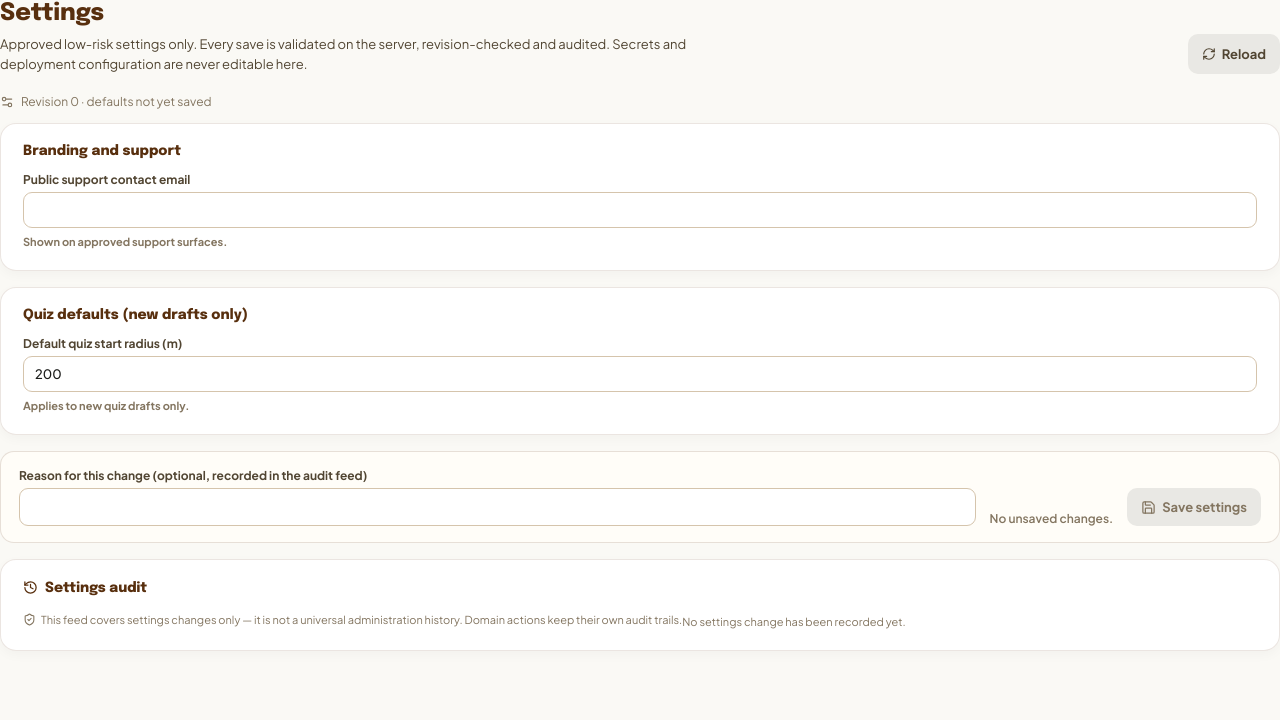
Test case: SettingsPage › reports a failed write without any success notice
Replace the text in the number field labelled "Default quiz start radius (m)" with "50" at point(640, 374), box [23,356,1257,392]
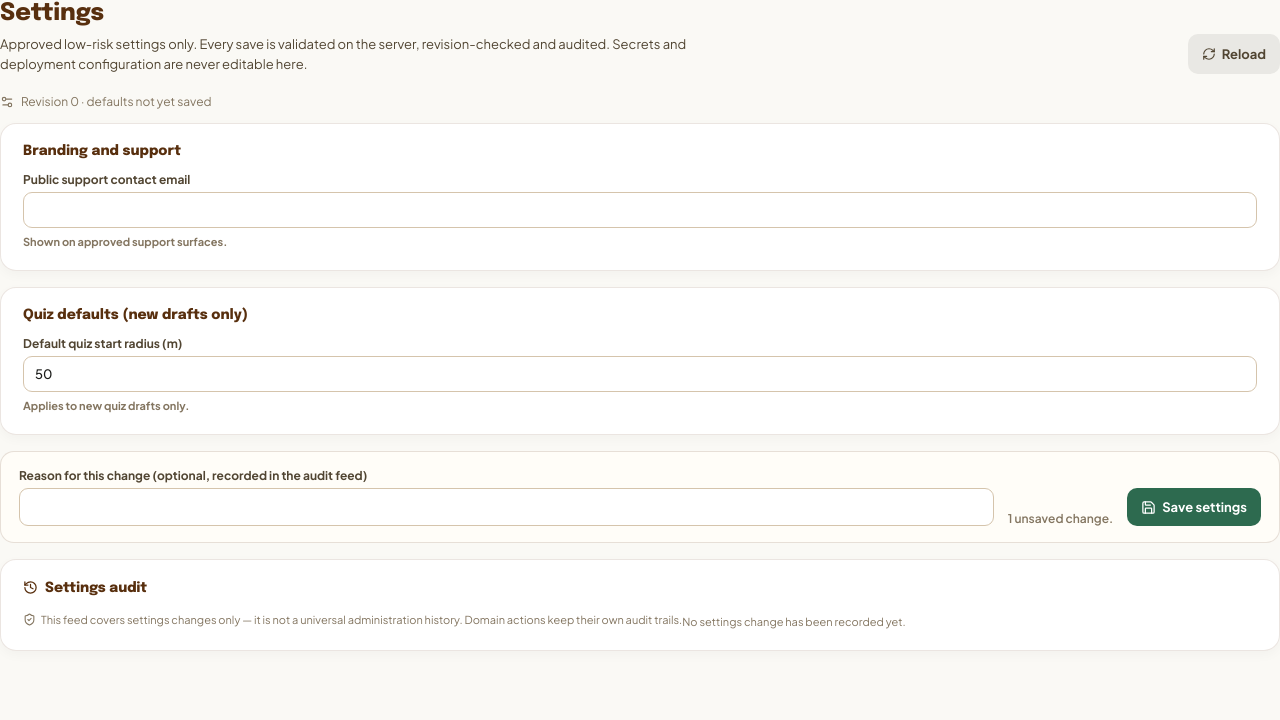
Click the button "Save settings" at point(1194, 507), box [1127,488,1261,526]
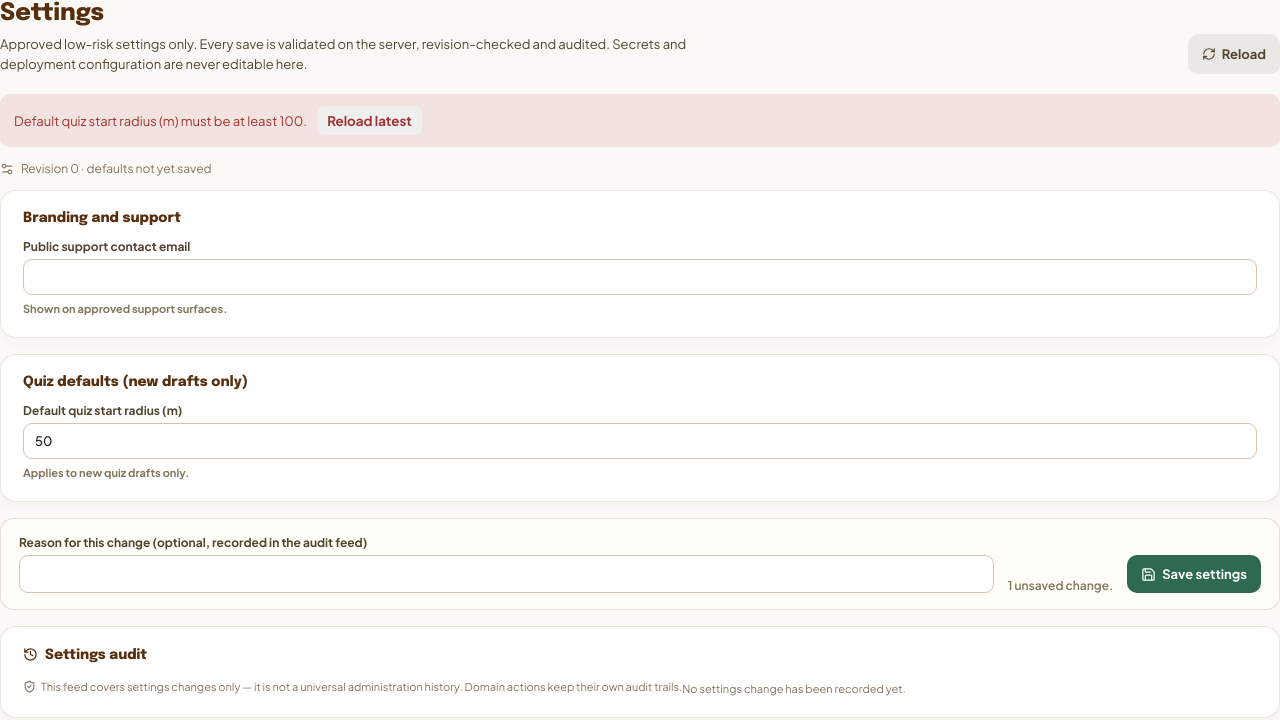
expect the text "1 unsaved change." is shown: met, box [1008,578,1113,593]
expect the message "Default quiz start radius (m) must be at least 100. Reload latest" is shown: met, box [0,94,1279,147]
